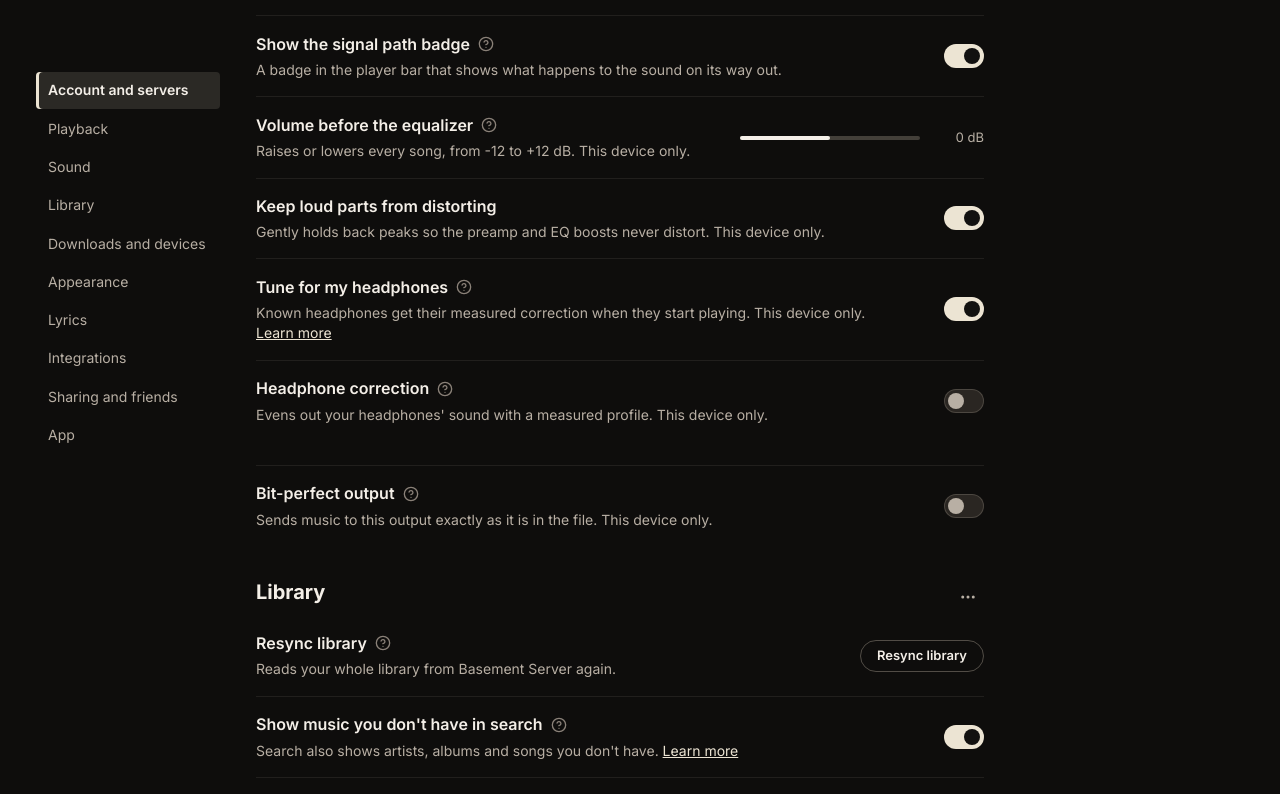
headphone correction › says when nothing matches
(page scrolled)
Click the switch in the row of "Headphone correction".
click(964, 401)  # box top-left (944, 389), bottom-right (984, 413)
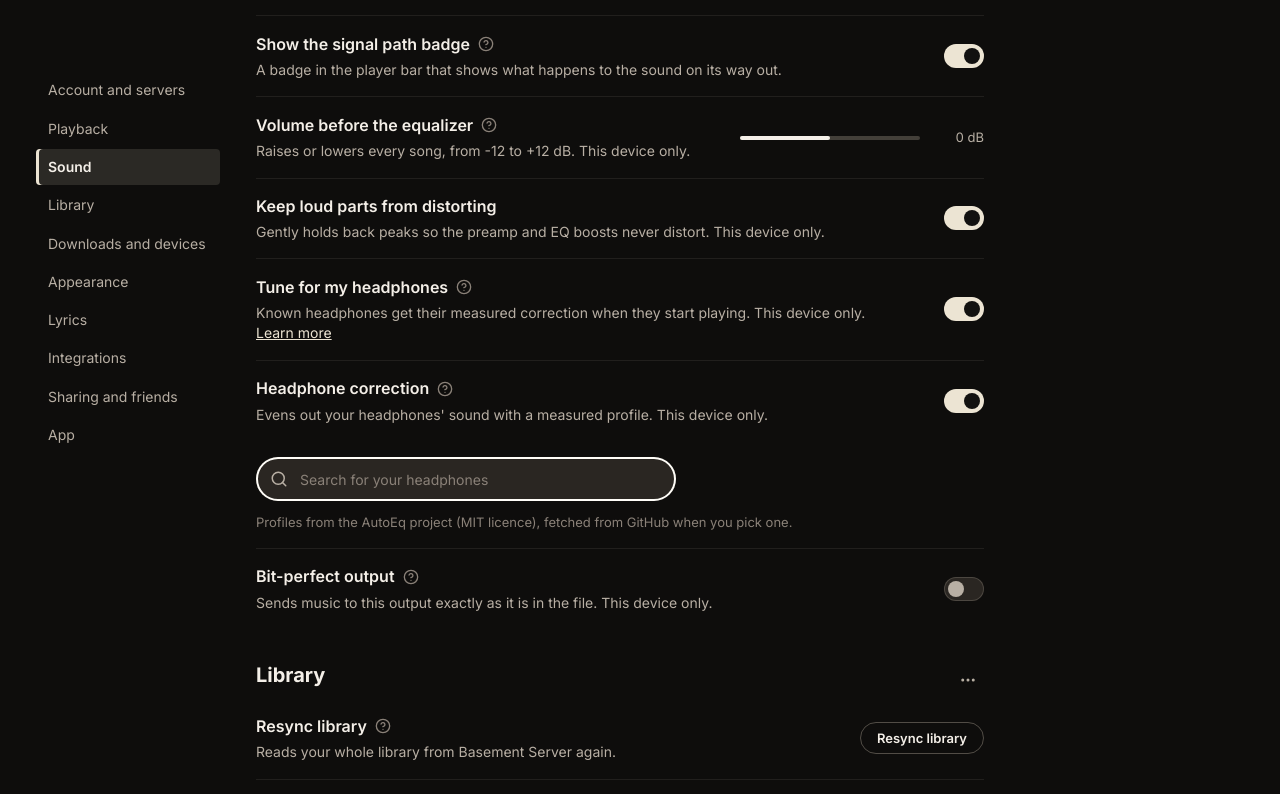
Type "zzz" into the search field.
click(466, 479); type("zzz")  # box top-left (256, 457), bottom-right (676, 501)
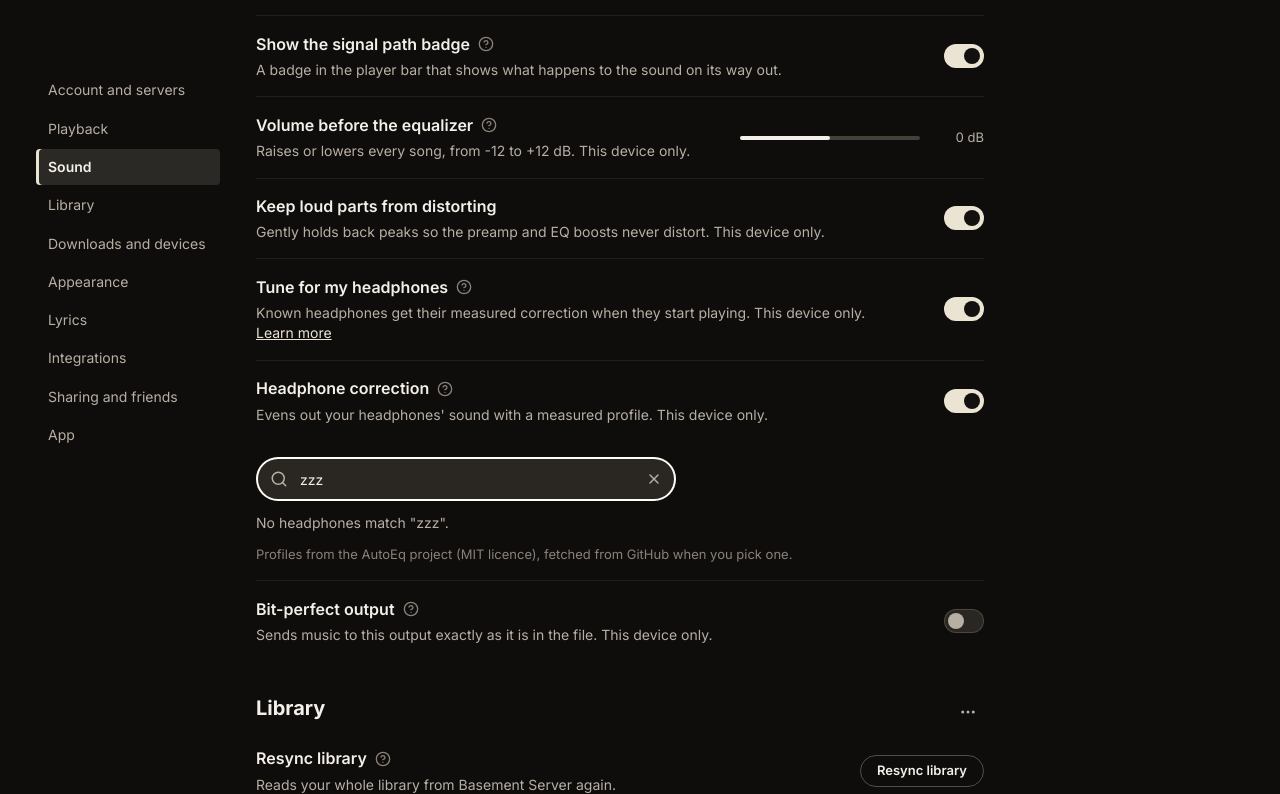
Result: the text "No headphones match \"zzz\"." is shown at top-left (256, 513), bottom-right (449, 533)
